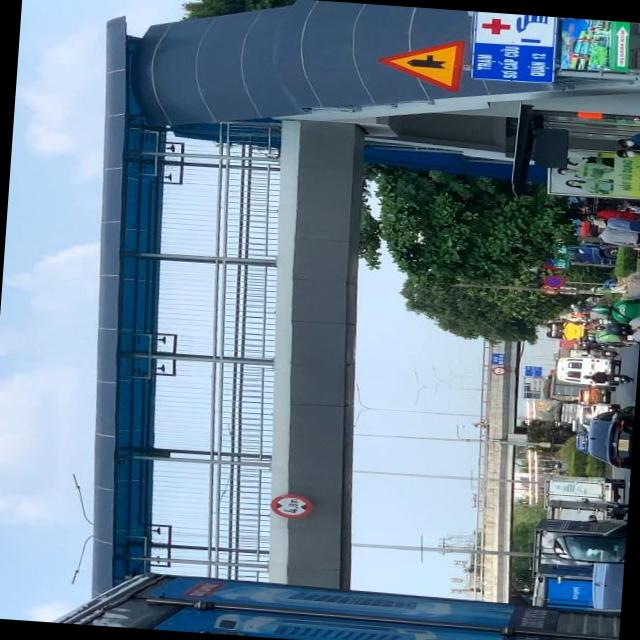P-117: (270, 489, 314, 516)
W-207b: (377, 34, 462, 96)
